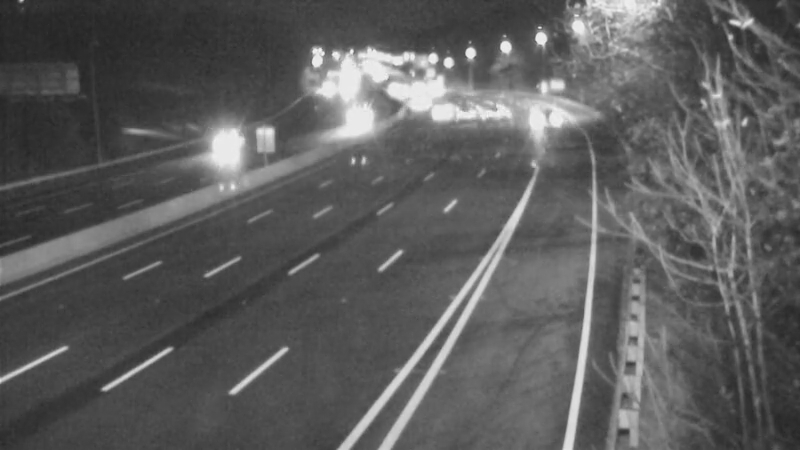vehicle: (194, 112, 274, 192), (391, 73, 441, 123), (409, 79, 459, 129), (469, 86, 519, 136), (440, 87, 490, 137), (522, 95, 572, 145), (326, 97, 376, 147)
